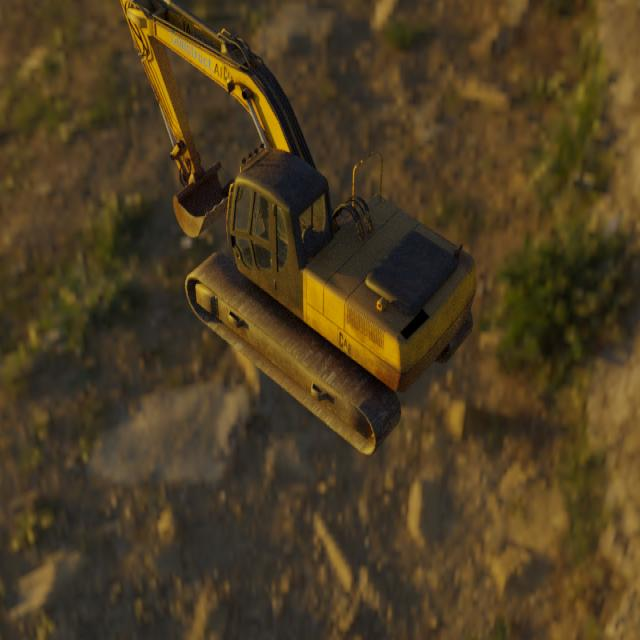excavator: (120, 0, 476, 457)
